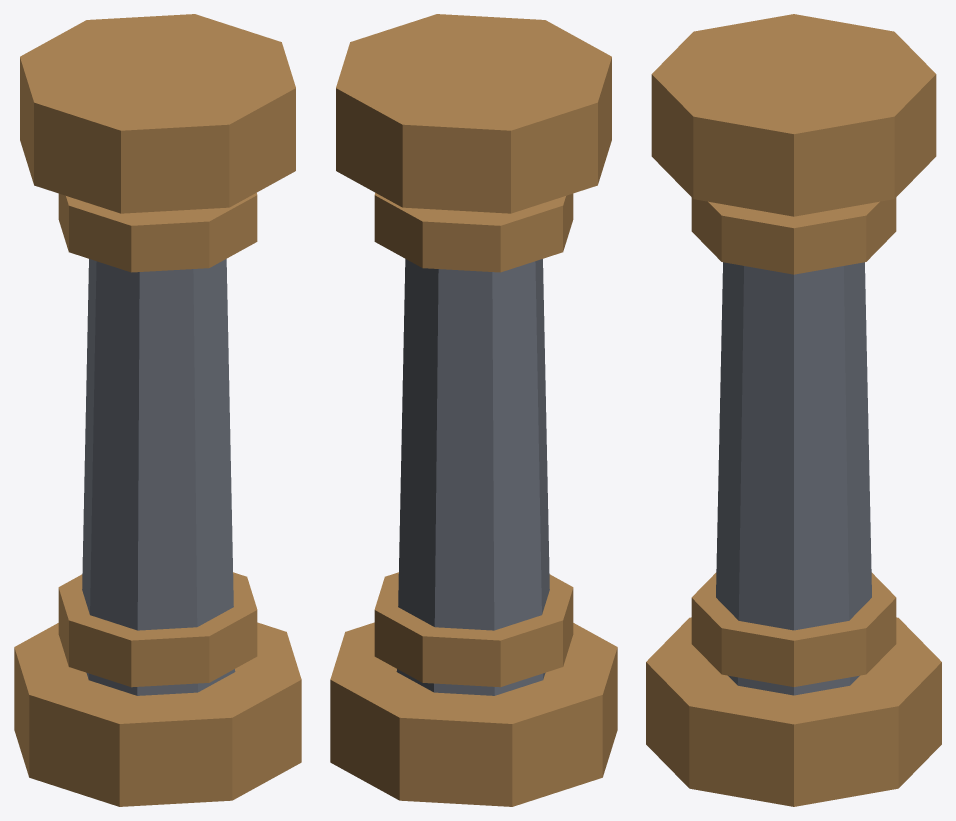
The model's file is column-bronze.fbx.
3 renders of one model, left to right at view 1: azimuth 30°, elevation 25°; view 2: azimuth 150°, elevation 25°; view 3: azimuth 270°, elevation 25°, orthographic.
Visible parts, largest first — view 1: shaft, capital, base, collar, collar.001; view 2: shaft, capital, base, collar, collar.001; view 3: shaft, capital, base, collar, collar.001.
Part boxes in pixels (x1,y1,x2,y2): shaft: (82,259,235,695); capital: (20,14,295,213); base: (14,622,301,806); collar: (58,572,257,687); collar.001: (58,193,257,272); shaft: (396,259,549,695); capital: (336,14,611,213); base: (330,622,617,806); collar: (374,572,573,687); collar.001: (374,193,573,272); shaft: (716,262,871,695); capital: (651,14,936,216); base: (646,617,941,806); collar: (691,572,896,686); collar.001: (691,198,896,274).
Bounding box in the file's own units: 52 × 130 × 52.
